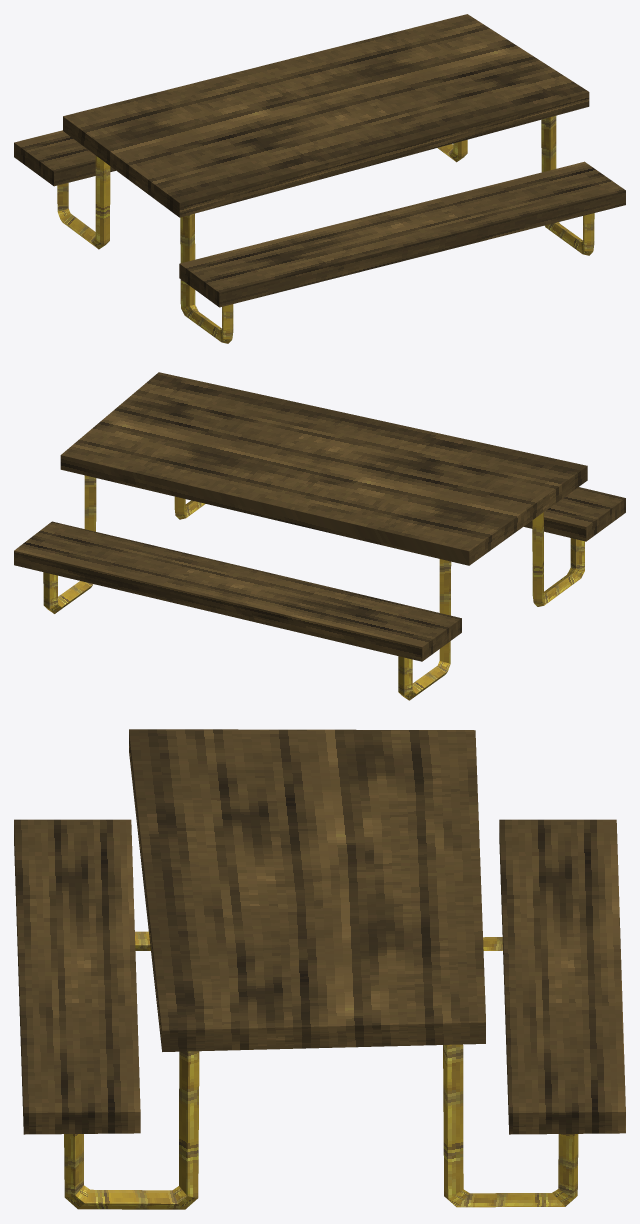
Rendered from Banca.obj.
3 renders of one model, top to bottom at view 1: azimuth 30°, elevation 25°; view 2: azimuth 150°, elevation 25°; view 3: azimuth 270°, elevation 25°, orthographic. The views are drawn at different scales.
Visible parts, largest first — view 1: Object_1.005; view 2: Object_1.005; view 3: Object_1.005.
Boxes of the visible parts, left/top/right/bottom form: Object_1.005: left=14, top=14, right=625, bottom=343; Object_1.005: left=14, top=372, right=625, bottom=700; Object_1.005: left=14, top=729, right=625, bottom=1209.
Size of the model in its own units: 157 by 48.45 by 135.
